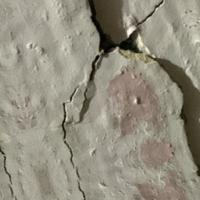crack: (53, 0, 189, 199)
